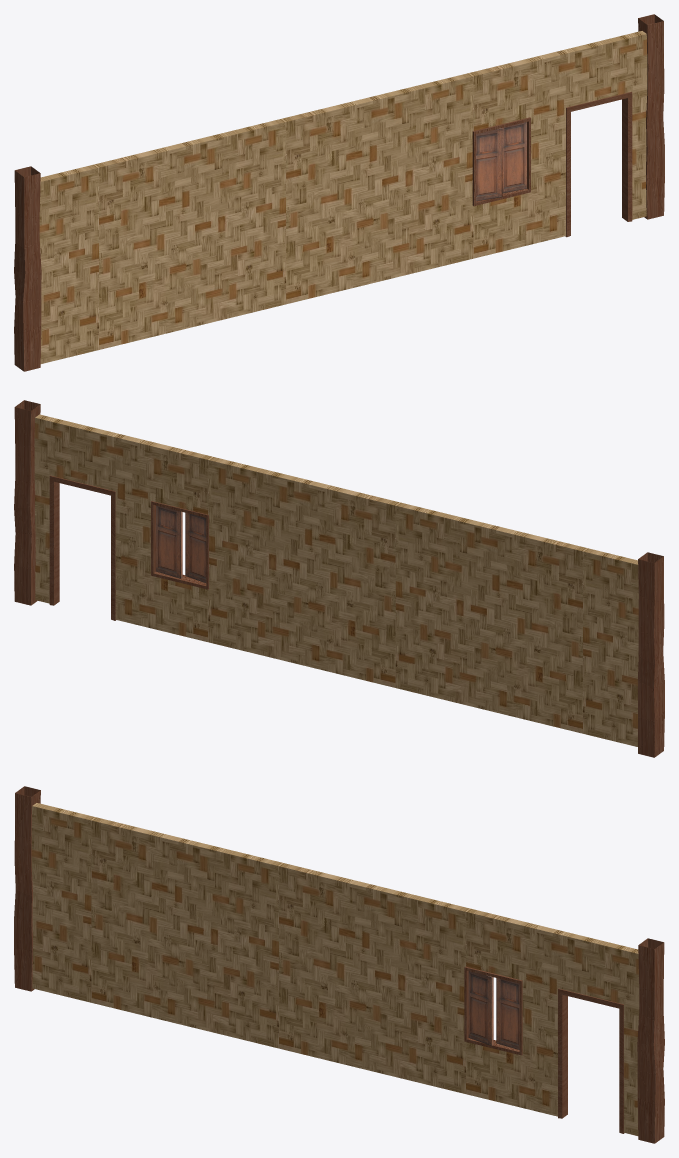
The model's file is DepanR1.fbx.
The picture shows the model from 3 angles, top to bottom: view 1: azimuth 30°, elevation 25°; view 2: azimuth 150°, elevation 25°; view 3: azimuth 330°, elevation 25°; orthographic projection.
Parts seen in each view (by area): view 1: R1_T-Depan; view 2: R1_T-Depan; view 3: R1_T-Depan.
Boxes of the visible parts, x1,y1,x2,y2 form: R1_T-Depan: (14, 14, 664, 371); R1_T-Depan: (14, 400, 664, 757); R1_T-Depan: (14, 786, 664, 1143).
Size of the model in its own units: 24.72 by 7.16 by 0.6998.
3 materials, 3 textured.
